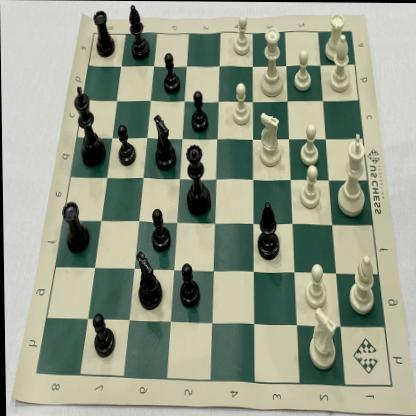black-bishop: (254, 198, 281, 262), (127, 1, 150, 61)
black-king: (73, 83, 107, 169)
black-knight: (132, 247, 163, 313), (151, 112, 177, 173)
black-pawn: (91, 310, 117, 360), (149, 206, 173, 255), (160, 48, 182, 97), (178, 261, 199, 309), (188, 89, 210, 134), (115, 123, 136, 170)
black-queen: (182, 143, 212, 218)
black-rook: (61, 196, 92, 255), (92, 6, 116, 61)
white-bishop: (346, 251, 377, 317), (327, 31, 351, 94)
white-king: (332, 129, 370, 218)
white-knight: (306, 305, 336, 372), (256, 109, 284, 171)
white-pawn: (298, 162, 322, 212), (303, 260, 327, 309), (230, 79, 252, 127), (231, 11, 253, 58), (291, 46, 313, 93), (299, 121, 321, 166)
white-queen: (257, 24, 285, 99)
white-rook: (324, 8, 347, 63)
